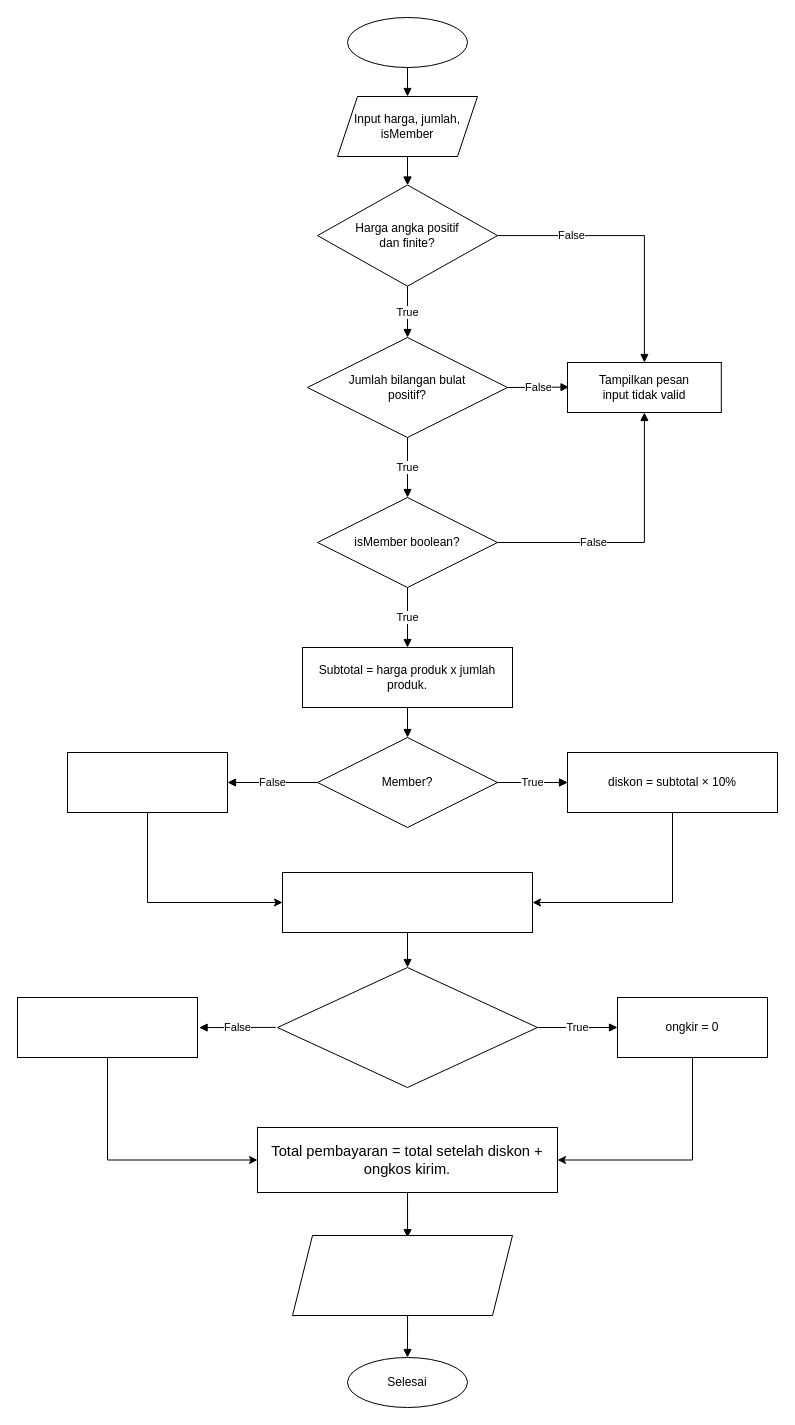
Image size: 795x1425. Some labels were removed from this diagram. The box of each missing label's shape, as (x1, y1, x2, y2) in pixels:
diskon = 0: (66, 752, 228, 812)
Mulai: (346, 16, 468, 68)
ongkir = Rp15.000: (16, 996, 198, 1058)
Output subtotal, diskon, ongkir, dan total pembayaran: (292, 1234, 512, 1316)
Total setelah diskon ≥ Rp250.000?: (276, 966, 538, 1088)
totalSetelahDiskon = subtotal − diskon: (282, 872, 532, 932)
